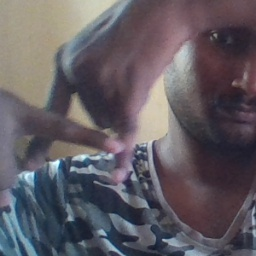H: (22, 64, 156, 194)
